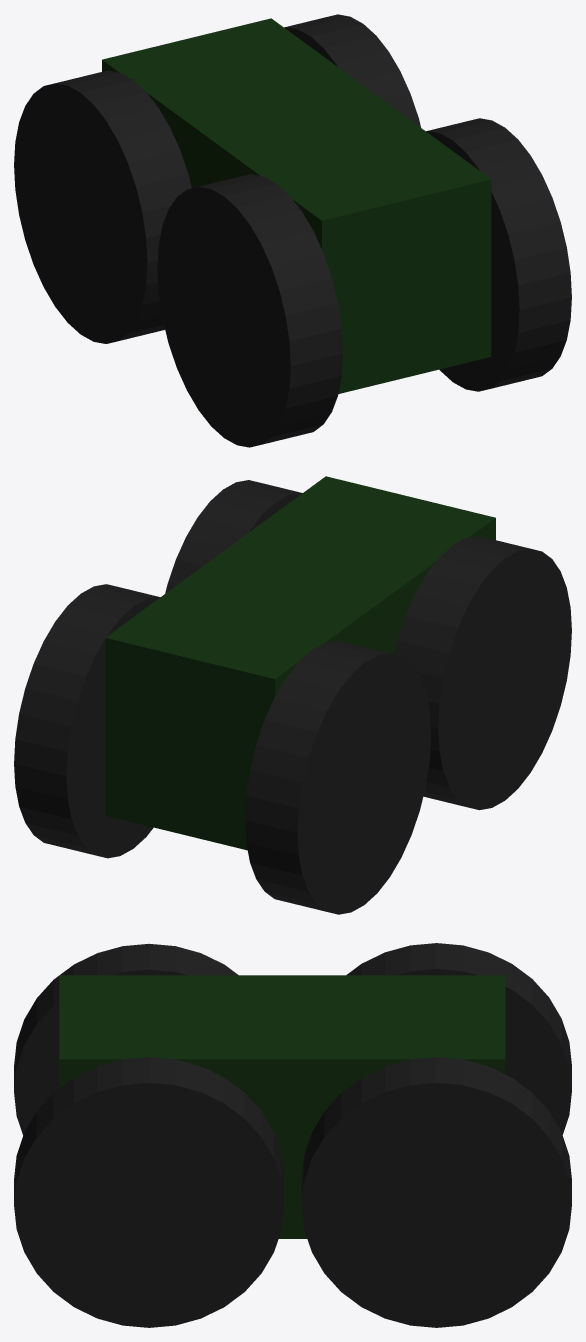
File: retardedcar.fbx
3 views of the same model, one above another, from view 1: azimuth 30°, elevation 25°; view 2: azimuth 150°, elevation 25°; view 3: azimuth 270°, elevation 25° (orthographic).
Visible parts, largest first — view 1: Cube, Walec.003, Walec.002, Walec, Walec.001; view 2: Cube, Walec.002, Walec.003, Walec.001, Walec; view 3: Walec, Walec.001, Cube, Walec.002, Walec.003.
Part boxes in pixels (x1,y1,x2,y2): Cube: (102,18,491,393); Walec.003: (157,174,342,447); Walec.002: (14,70,191,343); Walec: (426,118,571,391); Walec.001: (284,14,420,127); Cube: (105,476,495,850); Walec.002: (245,640,431,914); Walec.003: (393,536,571,810); Walec.001: (14,584,160,858); Walec: (165,480,302,593); Walec: (14,1057,284,1327); Walec.001: (301,1057,571,1327); Cube: (59,975,505,1238); Walec.002: (346,943,571,1134); Walec.003: (14,943,238,1135).
Size of the model in its own units: 494 by 404 by 833.
